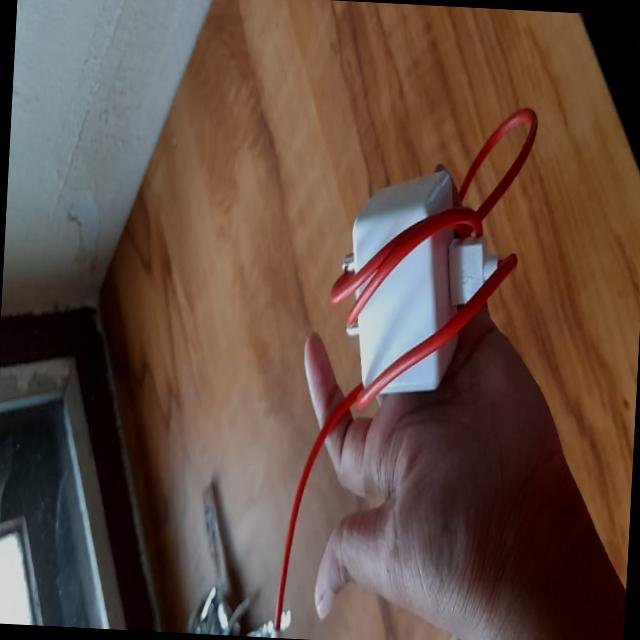Charger - Recyclable: (261, 86, 558, 640)
